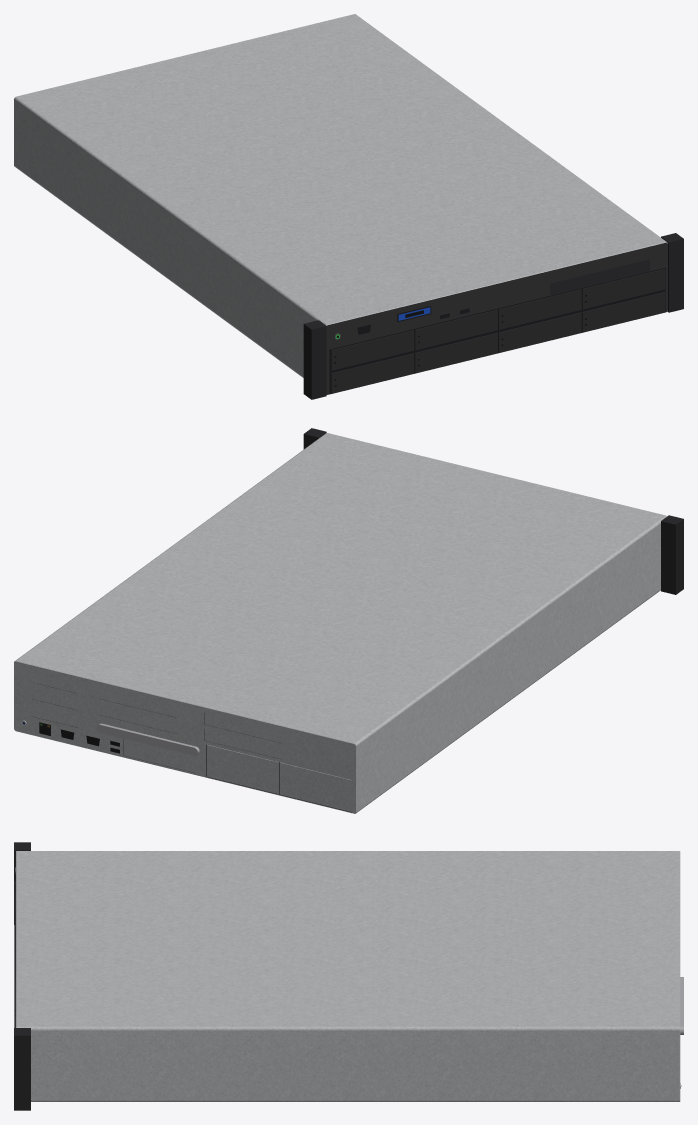
The model's file is R730.far.glb.
The picture shows the model from 3 angles, top to bottom: view 1: azimuth 30°, elevation 25°; view 2: azimuth 150°, elevation 25°; view 3: azimuth 270°, elevation 25°; orthographic projection. The views are drawn at different scales.
Parts seen in each view (by area): view 1: Rear_far; view 2: Rear_far, empty:PSU 1, empty:PSU 2, empty:Network Daughter Card Slot 1, empty:PCIe Slot 4, empty:PCIe Slot 5, empty:PCIe Slot 6, empty:PCIe Slot 7, empty:PCIe Slot 2, empty:PCIe Slot 3, empty:PCIe Slot 1; view 3: Rear_far.
Boxes of the visible parts, <box> form: Rear_far: <box>14,14,683,399</box>; Rear_far: <box>14,428,683,813</box>; empty:PSU 1: <box>206,745,278,793</box>; empty:PSU 2: <box>280,762,351,811</box>; empty:Network Daughter Card Slot 1: <box>124,738,195,772</box>; empty:PCIe Slot 4: <box>99,703,176,733</box>; empty:PCIe Slot 5: <box>99,687,176,717</box>; empty:PCIe Slot 6: <box>204,728,281,758</box>; empty:PCIe Slot 7: <box>204,712,281,742</box>; empty:PCIe Slot 2: <box>31,687,77,709</box>; empty:PCIe Slot 3: <box>31,670,77,693</box>; empty:PCIe Slot 1: <box>31,704,77,727</box>; Rear_far: <box>14,842,683,1110</box>.
Bounding box in the file's own units: 0.4824 × 0.0873 × 0.706.
Materials: 3 (2 with a texture image).
